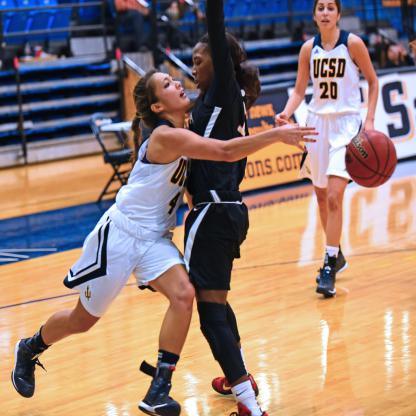Ball: (344, 131, 398, 190)
